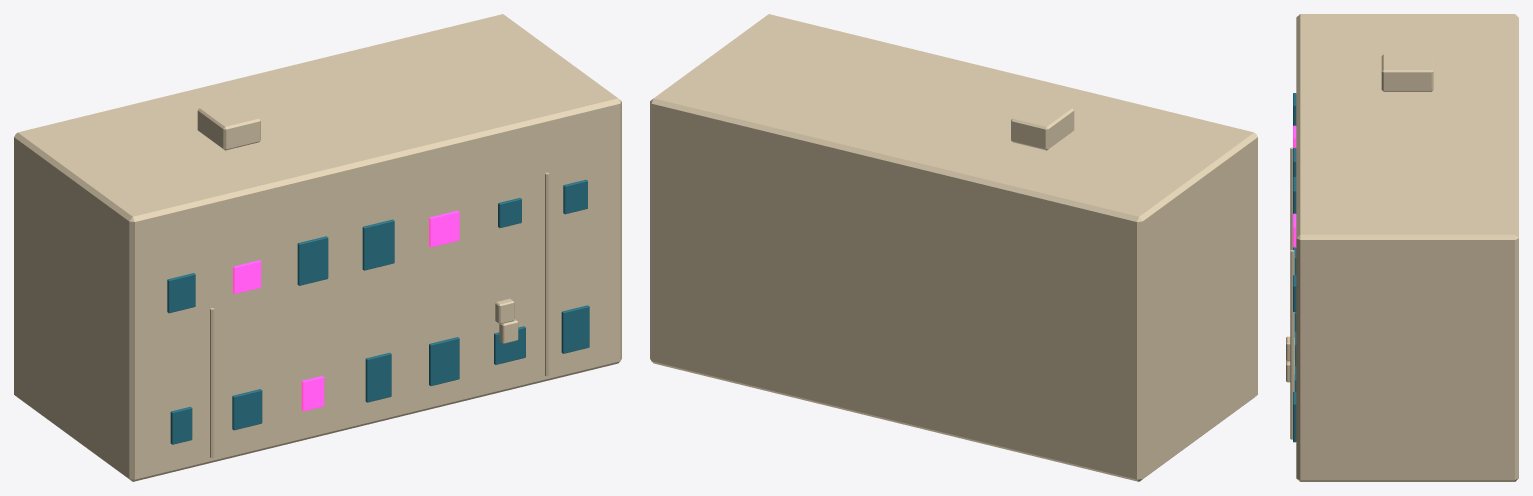
The model's file is building_003_seed11.glb.
The picture shows the model from 3 angles, left to right: view 1: azimuth 30°, elevation 25°; view 2: azimuth 150°, elevation 25°; view 3: azimuth 270°, elevation 25°; orthographic projection. The views are drawn at different scales.
Parts seen in each view (by area): view 1: building_003_seed11; view 2: building_003_seed11; view 3: building_003_seed11.
Part boxes in pixels (bbox=[...]): building_003_seed11: bbox=[14, 14, 621, 481]; building_003_seed11: bbox=[650, 14, 1257, 481]; building_003_seed11: bbox=[1286, 14, 1518, 481].
Bounding box in the file's own units: 10.9 × 6.11 × 4.79.
